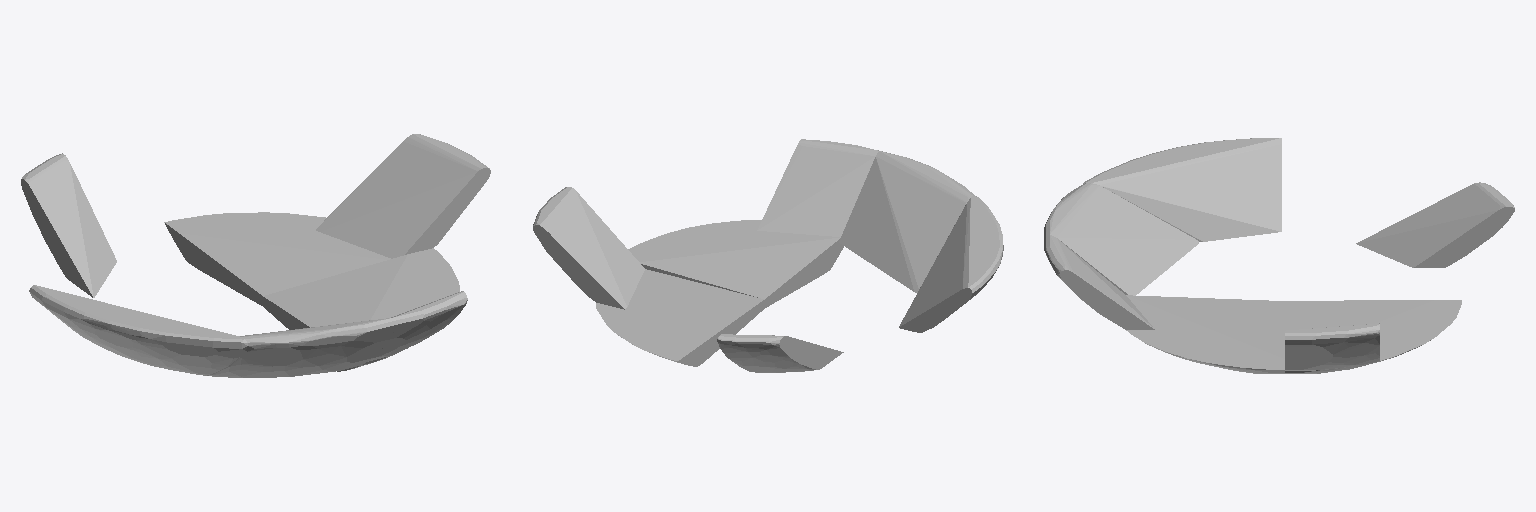
robot.urdf — root:
<robot name="root">
  <link name="link_coacd_convex_piece_0">
    <inertial>
      <origin xyz="0 0 0" rpy="0 0 0"/>
      <inertia ixx="8.84E-04" ixy="-5.00E-04" ixz="2.77E-04" iyy="8.94E-04" iyz="2.73E-04" izz="1.54E-03"/>
    </inertial>
    <visual>
      <origin xyz="0 0 0" rpy="0 0 0"/>
      <geometry>
        <mesh filename="coacd_convex_piece_0.obj" scale="1.0000E+00 1.0000E+00 1.0000E+00"/>
      </geometry>
      <material name="">
        <color rgba="7.50E-01 7.50E-01 7.50E-01 1"/>
      </material>
    </visual>
    <collision>
      <origin xyz="0 0 0" rpy="0 0 0"/>
      <geometry>
        <mesh filename="coacd_convex_piece_0.obj" scale="1.0000E+00 1.0000E+00 1.0000E+00"/>
      </geometry>
    </collision>
  </link>
  <link name="link_coacd_convex_piece_1">
    <inertial>
      <origin xyz="0 0 0" rpy="0 0 0"/>
      <inertia ixx="1.14E-03" ixy="6.65E-04" ixz="3.20E-04" iyy="1.13E-03" iyz="-3.26E-04" izz="2.03E-03"/>
    </inertial>
    <visual>
      <origin xyz="0 0 0" rpy="0 0 0"/>
      <geometry>
        <mesh filename="coacd_convex_piece_1.obj" scale="1.0000E+00 1.0000E+00 1.0000E+00"/>
      </geometry>
      <material name="">
        <color rgba="7.50E-01 7.50E-01 7.50E-01 1"/>
      </material>
    </visual>
    <collision>
      <origin xyz="0 0 0" rpy="0 0 0"/>
      <geometry>
        <mesh filename="coacd_convex_piece_1.obj" scale="1.0000E+00 1.0000E+00 1.0000E+00"/>
      </geometry>
    </collision>
  </link>
  <joint name="link_coacd_convex_piece_1_joint" type="fixed">
    <origin xyz="0 0 0" rpy="0 0 0"/>
    <parent link="link_coacd_convex_piece_0"/>
    <child link="link_coacd_convex_piece_1"/>
  </joint>
  <link name="link_coacd_convex_piece_2">
    <inertial>
      <origin xyz="0 0 0" rpy="0 0 0"/>
      <inertia ixx="2.11E-03" ixy="-6.95E-05" ixz="-6.53E-04" iyy="2.13E-03" iyz="-2.92E-05" izz="3.65E-03"/>
    </inertial>
    <visual>
      <origin xyz="0 0 0" rpy="0 0 0"/>
      <geometry>
        <mesh filename="coacd_convex_piece_2.obj" scale="1.0000E+00 1.0000E+00 1.0000E+00"/>
      </geometry>
      <material name="">
        <color rgba="7.50E-01 7.50E-01 7.50E-01 1"/>
      </material>
    </visual>
    <collision>
      <origin xyz="0 0 0" rpy="0 0 0"/>
      <geometry>
        <mesh filename="coacd_convex_piece_2.obj" scale="1.0000E+00 1.0000E+00 1.0000E+00"/>
      </geometry>
    </collision>
  </link>
  <joint name="link_coacd_convex_piece_2_joint" type="fixed">
    <origin xyz="0 0 0" rpy="0 0 0"/>
    <parent link="link_coacd_convex_piece_1"/>
    <child link="link_coacd_convex_piece_2"/>
  </joint>
  <link name="link_coacd_convex_piece_3">
    <inertial>
      <origin xyz="0 0 0" rpy="0 0 0"/>
      <inertia ixx="1.10E-04" ixy="3.62E-04" ixz="5.94E-05" iyy="1.84E-03" iyz="-9.35E-06" izz="1.94E-03"/>
    </inertial>
    <visual>
      <origin xyz="0 0 0" rpy="0 0 0"/>
      <geometry>
        <mesh filename="coacd_convex_piece_3.obj" scale="1.0000E+00 1.0000E+00 1.0000E+00"/>
      </geometry>
      <material name="">
        <color rgba="7.50E-01 7.50E-01 7.50E-01 1"/>
      </material>
    </visual>
    <collision>
      <origin xyz="0 0 0" rpy="0 0 0"/>
      <geometry>
        <mesh filename="coacd_convex_piece_3.obj" scale="1.0000E+00 1.0000E+00 1.0000E+00"/>
      </geometry>
    </collision>
  </link>
  <joint name="link_coacd_convex_piece_3_joint" type="fixed">
    <origin xyz="0 0 0" rpy="0 0 0"/>
    <parent link="link_coacd_convex_piece_2"/>
    <child link="link_coacd_convex_piece_3"/>
  </joint>
  <link name="link_coacd_convex_piece_4">
    <inertial>
      <origin xyz="0 0 0" rpy="0 0 0"/>
      <inertia ixx="2.83E-03" ixy="-8.92E-04" ixz="-3.73E-05" iyy="4.00E-04" iyz="-1.41E-04" izz="3.20E-03"/>
    </inertial>
    <visual>
      <origin xyz="0 0 0" rpy="0 0 0"/>
      <geometry>
        <mesh filename="coacd_convex_piece_4.obj" scale="1.0000E+00 1.0000E+00 1.0000E+00"/>
      </geometry>
      <material name="">
        <color rgba="7.50E-01 7.50E-01 7.50E-01 1"/>
      </material>
    </visual>
    <collision>
      <origin xyz="0 0 0" rpy="0 0 0"/>
      <geometry>
        <mesh filename="coacd_convex_piece_4.obj" scale="1.0000E+00 1.0000E+00 1.0000E+00"/>
      </geometry>
    </collision>
  </link>
  <joint name="link_coacd_convex_piece_4_joint" type="fixed">
    <origin xyz="0 0 0" rpy="0 0 0"/>
    <parent link="link_coacd_convex_piece_3"/>
    <child link="link_coacd_convex_piece_4"/>
  </joint>
  <link name="link_coacd_convex_piece_5">
    <inertial>
      <origin xyz="0 0 0" rpy="0 0 0"/>
      <inertia ixx="5.79E-04" ixy="1.13E-03" ixz="-2.30E-04" iyy="3.24E-03" iyz="6.78E-05" izz="3.77E-03"/>
    </inertial>
    <visual>
      <origin xyz="0 0 0" rpy="0 0 0"/>
      <geometry>
        <mesh filename="coacd_convex_piece_5.obj" scale="1.0000E+00 1.0000E+00 1.0000E+00"/>
      </geometry>
      <material name="">
        <color rgba="7.50E-01 7.50E-01 7.50E-01 1"/>
      </material>
    </visual>
    <collision>
      <origin xyz="0 0 0" rpy="0 0 0"/>
      <geometry>
        <mesh filename="coacd_convex_piece_5.obj" scale="1.0000E+00 1.0000E+00 1.0000E+00"/>
      </geometry>
    </collision>
  </link>
  <joint name="link_coacd_convex_piece_5_joint" type="fixed">
    <origin xyz="0 0 0" rpy="0 0 0"/>
    <parent link="link_coacd_convex_piece_4"/>
    <child link="link_coacd_convex_piece_5"/>
  </joint>
  <link name="link_coacd_convex_piece_6">
    <inertial>
      <origin xyz="0 0 0" rpy="0 0 0"/>
      <inertia ixx="3.61E-03" ixy="-1.23E-03" ixz="4.60E-05" iyy="6.34E-04" iyz="1.89E-04" izz="4.20E-03"/>
    </inertial>
    <visual>
      <origin xyz="0 0 0" rpy="0 0 0"/>
      <geometry>
        <mesh filename="coacd_convex_piece_6.obj" scale="1.0000E+00 1.0000E+00 1.0000E+00"/>
      </geometry>
      <material name="">
        <color rgba="7.50E-01 7.50E-01 7.50E-01 1"/>
      </material>
    </visual>
    <collision>
      <origin xyz="0 0 0" rpy="0 0 0"/>
      <geometry>
        <mesh filename="coacd_convex_piece_6.obj" scale="1.0000E+00 1.0000E+00 1.0000E+00"/>
      </geometry>
    </collision>
  </link>
  <joint name="link_coacd_convex_piece_6_joint" type="fixed">
    <origin xyz="0 0 0" rpy="0 0 0"/>
    <parent link="link_coacd_convex_piece_5"/>
    <child link="link_coacd_convex_piece_6"/>
  </joint>
  <link name="link_coacd_convex_piece_7">
    <inertial>
      <origin xyz="0 0 0" rpy="0 0 0"/>
      <inertia ixx="1.25E-03" ixy="-1.84E-03" ixz="2.92E-04" iyy="4.00E-03" iyz="1.64E-04" izz="5.18E-03"/>
    </inertial>
    <visual>
      <origin xyz="0 0 0" rpy="0 0 0"/>
      <geometry>
        <mesh filename="coacd_convex_piece_7.obj" scale="1.0000E+00 1.0000E+00 1.0000E+00"/>
      </geometry>
      <material name="">
        <color rgba="7.50E-01 7.50E-01 7.50E-01 1"/>
      </material>
    </visual>
    <collision>
      <origin xyz="0 0 0" rpy="0 0 0"/>
      <geometry>
        <mesh filename="coacd_convex_piece_7.obj" scale="1.0000E+00 1.0000E+00 1.0000E+00"/>
      </geometry>
    </collision>
  </link>
  <joint name="link_coacd_convex_piece_7_joint" type="fixed">
    <origin xyz="0 0 0" rpy="0 0 0"/>
    <parent link="link_coacd_convex_piece_6"/>
    <child link="link_coacd_convex_piece_7"/>
  </joint>
  <link name="link_coacd_convex_piece_8">
    <inertial>
      <origin xyz="0 0 0" rpy="0 0 0"/>
      <inertia ixx="1.26E-03" ixy="-1.29E-03" ixz="-1.78E-04" iyy="1.51E-03" iyz="-1.62E-04" izz="2.71E-03"/>
    </inertial>
    <visual>
      <origin xyz="0 0 0" rpy="0 0 0"/>
      <geometry>
        <mesh filename="coacd_convex_piece_8.obj" scale="1.0000E+00 1.0000E+00 1.0000E+00"/>
      </geometry>
      <material name="">
        <color rgba="7.50E-01 7.50E-01 7.50E-01 1"/>
      </material>
    </visual>
    <collision>
      <origin xyz="0 0 0" rpy="0 0 0"/>
      <geometry>
        <mesh filename="coacd_convex_piece_8.obj" scale="1.0000E+00 1.0000E+00 1.0000E+00"/>
      </geometry>
    </collision>
  </link>
  <joint name="link_coacd_convex_piece_8_joint" type="fixed">
    <origin xyz="0 0 0" rpy="0 0 0"/>
    <parent link="link_coacd_convex_piece_7"/>
    <child link="link_coacd_convex_piece_8"/>
  </joint>
  <link name="link_coacd_convex_piece_9">
    <inertial>
      <origin xyz="0 0 0" rpy="0 0 0"/>
      <inertia ixx="2.26E-04" ixy="-6.07E-04" ixz="-1.33E-04" iyy="2.47E-03" iyz="-2.59E-05" izz="2.66E-03"/>
    </inertial>
    <visual>
      <origin xyz="0 0 0" rpy="0 0 0"/>
      <geometry>
        <mesh filename="coacd_convex_piece_9.obj" scale="1.0000E+00 1.0000E+00 1.0000E+00"/>
      </geometry>
      <material name="">
        <color rgba="7.50E-01 7.50E-01 7.50E-01 1"/>
      </material>
    </visual>
    <collision>
      <origin xyz="0 0 0" rpy="0 0 0"/>
      <geometry>
        <mesh filename="coacd_convex_piece_9.obj" scale="1.0000E+00 1.0000E+00 1.0000E+00"/>
      </geometry>
    </collision>
  </link>
  <joint name="link_coacd_convex_piece_9_joint" type="fixed">
    <origin xyz="0 0 0" rpy="0 0 0"/>
    <parent link="link_coacd_convex_piece_8"/>
    <child link="link_coacd_convex_piece_9"/>
  </joint>
  <link name="link_coacd_convex_piece_10">
    <inertial>
      <origin xyz="0 0 0" rpy="0 0 0"/>
      <inertia ixx="1.45E-03" ixy="1.10E-03" ixz="-1.42E-04" iyy="9.56E-04" iyz="1.71E-04" izz="2.36E-03"/>
    </inertial>
    <visual>
      <origin xyz="0 0 0" rpy="0 0 0"/>
      <geometry>
        <mesh filename="coacd_convex_piece_10.obj" scale="1.0000E+00 1.0000E+00 1.0000E+00"/>
      </geometry>
      <material name="">
        <color rgba="7.50E-01 7.50E-01 7.50E-01 1"/>
      </material>
    </visual>
    <collision>
      <origin xyz="0 0 0" rpy="0 0 0"/>
      <geometry>
        <mesh filename="coacd_convex_piece_10.obj" scale="1.0000E+00 1.0000E+00 1.0000E+00"/>
      </geometry>
    </collision>
  </link>
  <joint name="link_coacd_convex_piece_10_joint" type="fixed">
    <origin xyz="0 0 0" rpy="0 0 0"/>
    <parent link="link_coacd_convex_piece_9"/>
    <child link="link_coacd_convex_piece_10"/>
  </joint>
  <link name="link_coacd_convex_piece_11">
    <inertial>
      <origin xyz="0 0 0" rpy="0 0 0"/>
      <inertia ixx="1.85E-03" ixy="4.23E-04" ixz="-2.40E-05" iyy="1.39E-04" iyz="1.13E-04" izz="1.97E-03"/>
    </inertial>
    <visual>
      <origin xyz="0 0 0" rpy="0 0 0"/>
      <geometry>
        <mesh filename="coacd_convex_piece_11.obj" scale="1.0000E+00 1.0000E+00 1.0000E+00"/>
      </geometry>
      <material name="">
        <color rgba="7.50E-01 7.50E-01 7.50E-01 1"/>
      </material>
    </visual>
    <collision>
      <origin xyz="0 0 0" rpy="0 0 0"/>
      <geometry>
        <mesh filename="coacd_convex_piece_11.obj" scale="1.0000E+00 1.0000E+00 1.0000E+00"/>
      </geometry>
    </collision>
  </link>
  <joint name="link_coacd_convex_piece_11_joint" type="fixed">
    <origin xyz="0 0 0" rpy="0 0 0"/>
    <parent link="link_coacd_convex_piece_10"/>
    <child link="link_coacd_convex_piece_11"/>
  </joint>
  <link name="link_coacd_convex_piece_12">
    <inertial>
      <origin xyz="0 0 0" rpy="0 0 0"/>
      <inertia ixx="1.80E-03" ixy="3.24E-04" ixz="7.13E-06" iyy="9.17E-05" iyz="-6.63E-05" izz="1.87E-03"/>
    </inertial>
    <visual>
      <origin xyz="0 0 0" rpy="0 0 0"/>
      <geometry>
        <mesh filename="coacd_convex_piece_12.obj" scale="1.0000E+00 1.0000E+00 1.0000E+00"/>
      </geometry>
      <material name="">
        <color rgba="7.50E-01 7.50E-01 7.50E-01 1"/>
      </material>
    </visual>
    <collision>
      <origin xyz="0 0 0" rpy="0 0 0"/>
      <geometry>
        <mesh filename="coacd_convex_piece_12.obj" scale="1.0000E+00 1.0000E+00 1.0000E+00"/>
      </geometry>
    </collision>
  </link>
  <joint name="link_coacd_convex_piece_12_joint" type="fixed">
    <origin xyz="0 0 0" rpy="0 0 0"/>
    <parent link="link_coacd_convex_piece_11"/>
    <child link="link_coacd_convex_piece_12"/>
  </joint>
  <link name="link_coacd_convex_piece_13">
    <inertial>
      <origin xyz="0 0 0" rpy="0 0 0"/>
      <inertia ixx="1.22E-03" ixy="7.44E-04" ixz="1.65E-05" iyy="5.01E-04" iyz="-4.96E-05" izz="1.71E-03"/>
    </inertial>
    <visual>
      <origin xyz="0 0 0" rpy="0 0 0"/>
      <geometry>
        <mesh filename="coacd_convex_piece_13.obj" scale="1.0000E+00 1.0000E+00 1.0000E+00"/>
      </geometry>
      <material name="">
        <color rgba="7.50E-01 7.50E-01 7.50E-01 1"/>
      </material>
    </visual>
    <collision>
      <origin xyz="0 0 0" rpy="0 0 0"/>
      <geometry>
        <mesh filename="coacd_convex_piece_13.obj" scale="1.0000E+00 1.0000E+00 1.0000E+00"/>
      </geometry>
    </collision>
  </link>
  <joint name="link_coacd_convex_piece_13_joint" type="fixed">
    <origin xyz="0 0 0" rpy="0 0 0"/>
    <parent link="link_coacd_convex_piece_12"/>
    <child link="link_coacd_convex_piece_13"/>
  </joint>
  <link name="link_coacd_convex_piece_14">
    <inertial>
      <origin xyz="0 0 0" rpy="0 0 0"/>
      <inertia ixx="8.41E-04" ixy="1.03E-03" ixz="1.26E-04" iyy="1.42E-03" iyz="-1.00E-04" izz="2.23E-03"/>
    </inertial>
    <visual>
      <origin xyz="0 0 0" rpy="0 0 0"/>
      <geometry>
        <mesh filename="coacd_convex_piece_14.obj" scale="1.0000E+00 1.0000E+00 1.0000E+00"/>
      </geometry>
      <material name="">
        <color rgba="7.50E-01 7.50E-01 7.50E-01 1"/>
      </material>
    </visual>
    <collision>
      <origin xyz="0 0 0" rpy="0 0 0"/>
      <geometry>
        <mesh filename="coacd_convex_piece_14.obj" scale="1.0000E+00 1.0000E+00 1.0000E+00"/>
      </geometry>
    </collision>
  </link>
  <joint name="link_coacd_convex_piece_14_joint" type="fixed">
    <origin xyz="0 0 0" rpy="0 0 0"/>
    <parent link="link_coacd_convex_piece_13"/>
    <child link="link_coacd_convex_piece_14"/>
  </joint>
</robot>

--- What the picture shows (computed from the rendered views, not written in the file) ---
3 views of the same robot in one strip: view 1: azimuth 30°, elevation 25°; view 2: azimuth 150°, elevation 25°; view 3: azimuth 270°, elevation 25° (orthographic).
Model root with 15 links and 14 joints (14 fixed), rooted at link_coacd_convex_piece_0, posed all joints at 0.
Links seen in each view (by area): view 1: link_coacd_convex_piece_9, link_coacd_convex_piece_0, link_coacd_convex_piece_1, link_coacd_convex_piece_7, link_coacd_convex_piece_13, link_coacd_convex_piece_6, link_coacd_convex_piece_11; view 2: link_coacd_convex_piece_6, link_coacd_convex_piece_1, link_coacd_convex_piece_0, link_coacd_convex_piece_11, link_coacd_convex_piece_9, link_coacd_convex_piece_7, link_coacd_convex_piece_13; view 3: link_coacd_convex_piece_7, link_coacd_convex_piece_1, link_coacd_convex_piece_6, link_coacd_convex_piece_13, link_coacd_convex_piece_0, link_coacd_convex_piece_9, link_coacd_convex_piece_11.
Boxes of the visible links, x1,y1,x2,y2 form: link_coacd_convex_piece_9: [316, 134, 490, 258]; link_coacd_convex_piece_0: [164, 212, 390, 305]; link_coacd_convex_piece_1: [263, 248, 459, 371]; link_coacd_convex_piece_7: [29, 285, 247, 375]; link_coacd_convex_piece_13: [21, 153, 116, 297]; link_coacd_convex_piece_6: [207, 318, 395, 377]; link_coacd_convex_piece_11: [368, 291, 467, 361]; link_coacd_convex_piece_6: [839, 151, 974, 292]; link_coacd_convex_piece_1: [628, 220, 843, 307]; link_coacd_convex_piece_0: [596, 269, 764, 366]; link_coacd_convex_piece_11: [757, 139, 878, 236]; link_coacd_convex_piece_9: [533, 187, 644, 309]; link_coacd_convex_piece_7: [899, 196, 1003, 332]; link_coacd_convex_piece_13: [717, 334, 843, 372]; link_coacd_convex_piece_7: [1083, 138, 1281, 241]; link_coacd_convex_piece_1: [1126, 295, 1284, 373]; link_coacd_convex_piece_6: [1044, 183, 1198, 295]; link_coacd_convex_piece_13: [1356, 182, 1514, 267]; link_coacd_convex_piece_0: [1285, 300, 1461, 373]; link_coacd_convex_piece_9: [1285, 323, 1379, 370]; link_coacd_convex_piece_11: [1044, 235, 1154, 329].
Bounding box of the posed robot: 1.92 × 1.87 × 0.3749 m (x, y, z).
7 mesh visuals loaded from 15 distinct referenced files (7 OBJ); not drawn: 8 (reference not matched to a file when rendering).